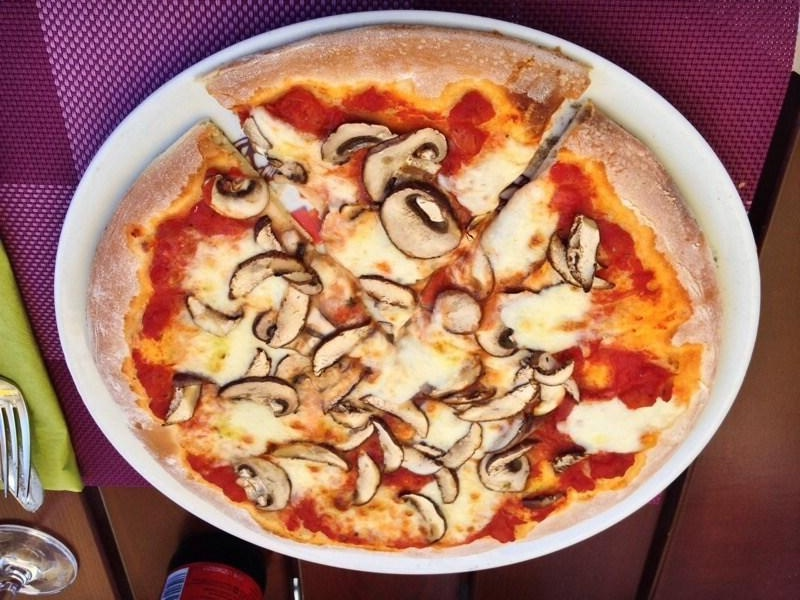champignon: (374, 183, 475, 268), (359, 125, 455, 205), (315, 118, 402, 172), (212, 374, 304, 425), (195, 172, 273, 225), (235, 454, 294, 519)
